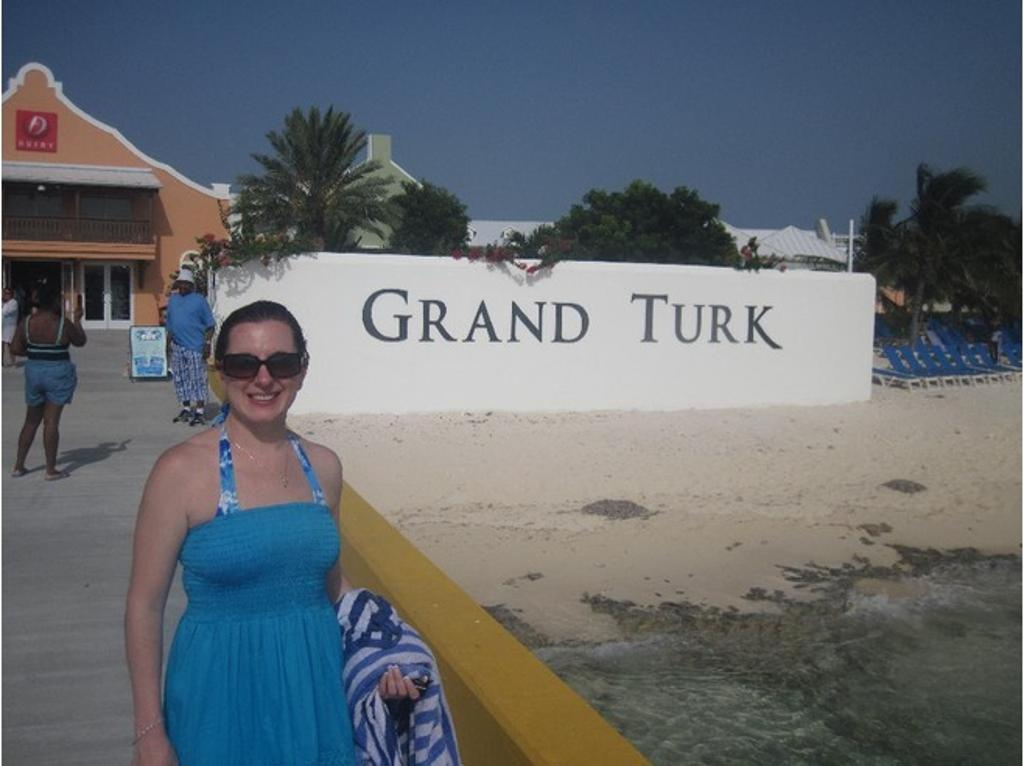face: (218, 322, 298, 422)
